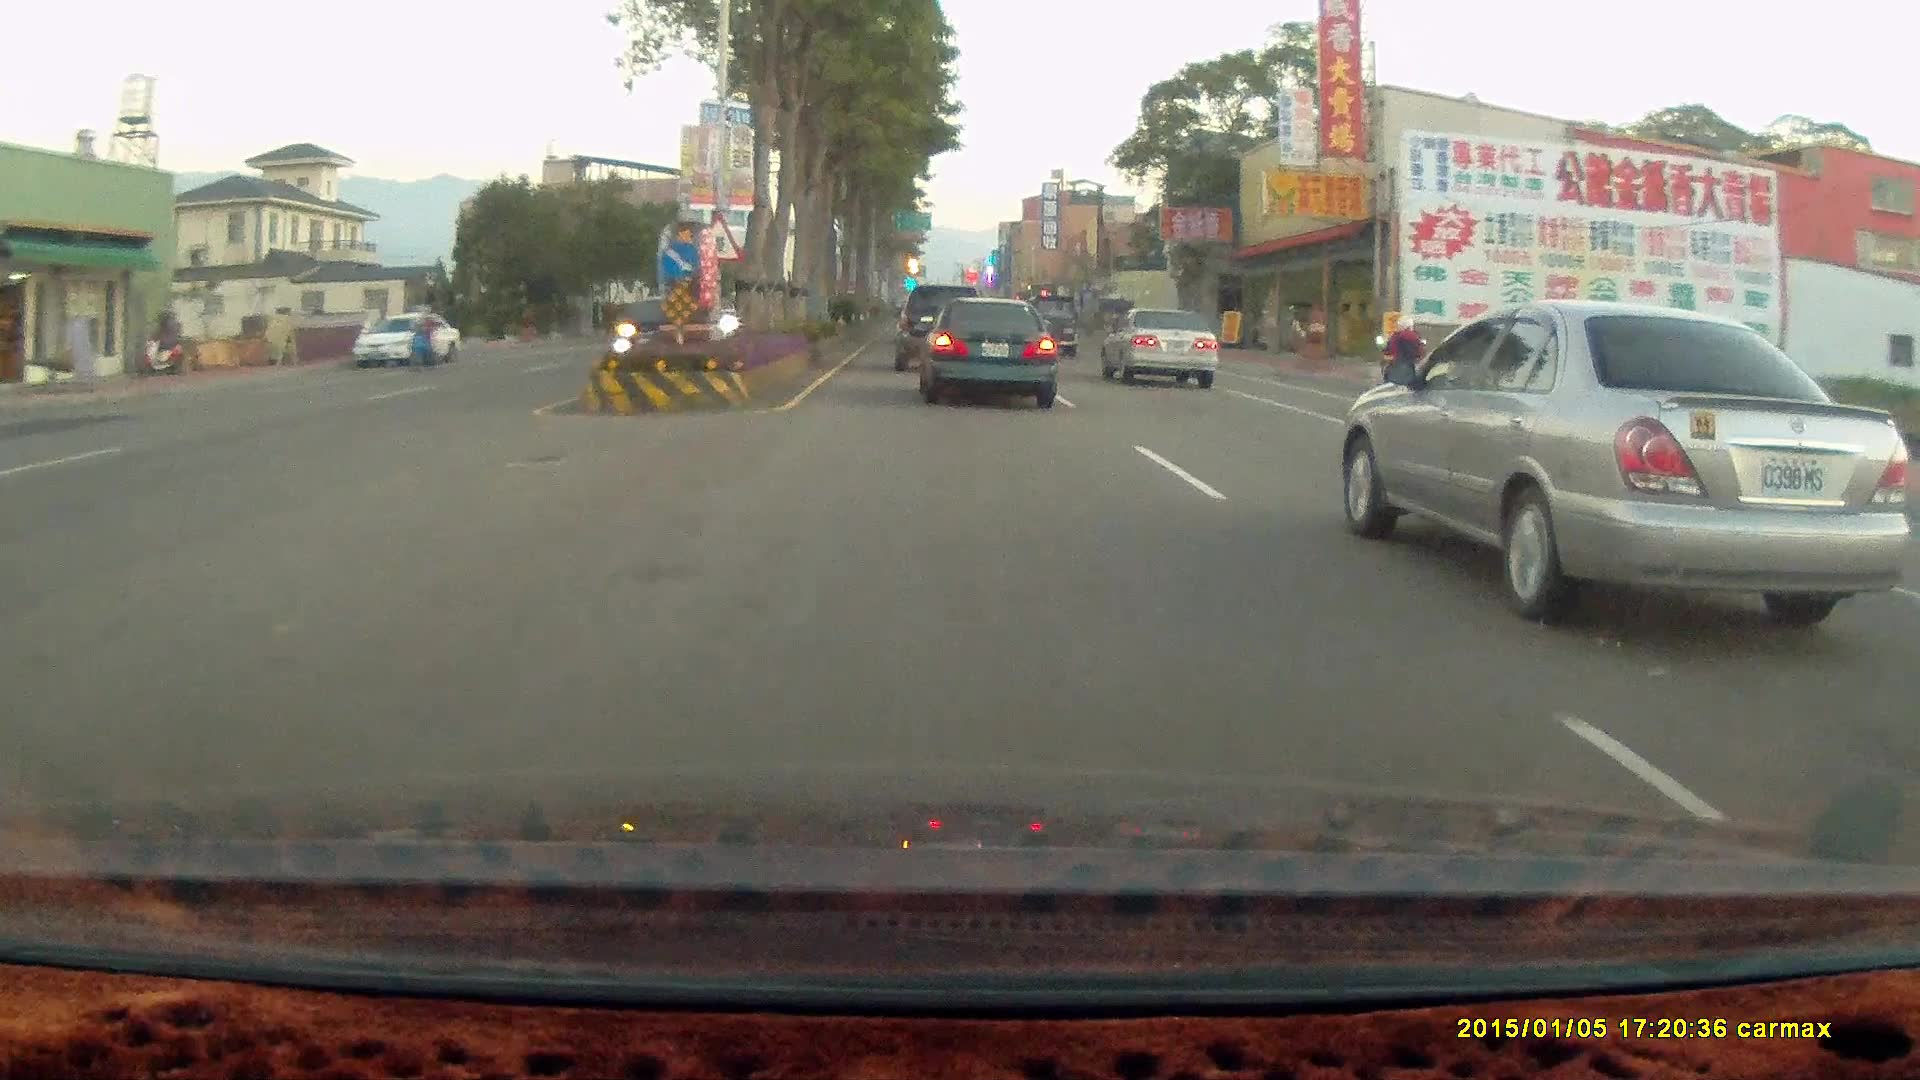rider: (1368, 300, 1439, 422), (1370, 313, 1421, 419), (400, 301, 438, 371)
vehicle: (1350, 288, 1920, 622), (912, 297, 1056, 410), (918, 300, 1061, 414), (1096, 305, 1218, 389), (1101, 309, 1223, 393), (892, 281, 985, 375), (893, 281, 982, 368), (346, 312, 459, 369), (613, 296, 709, 359), (613, 295, 710, 358), (1014, 293, 1078, 358)
